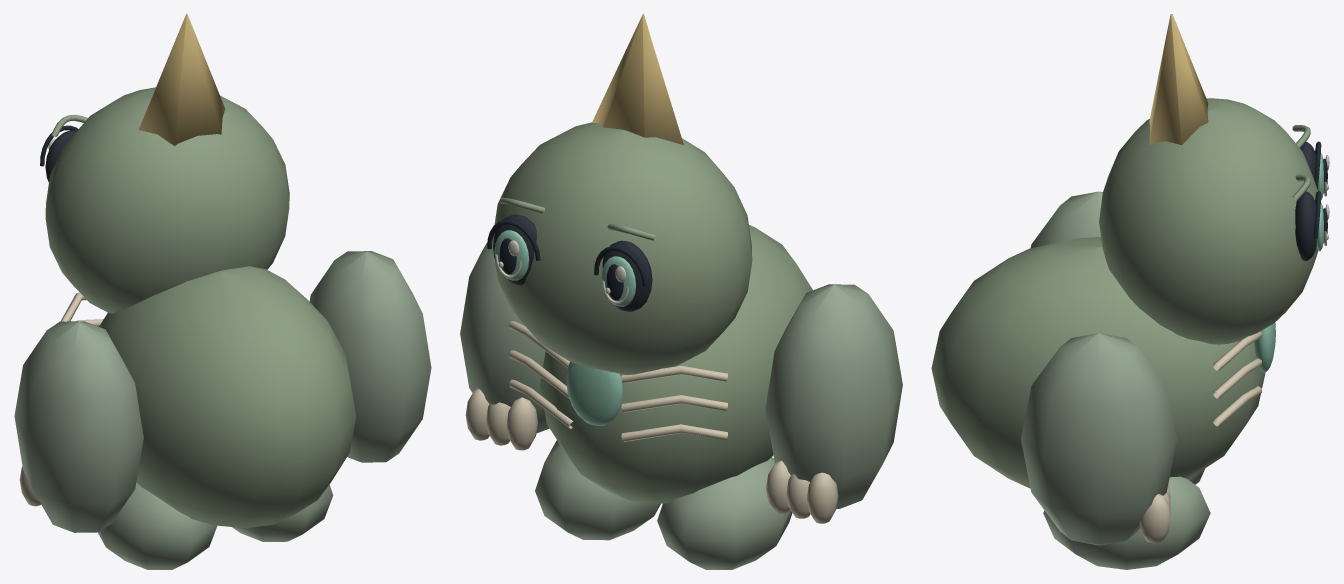
The model's file is pet-golem.glb.
3 renders of one model, left to right at view 1: azimuth 30°, elevation 25°; view 2: azimuth 150°, elevation 25°; view 3: azimuth 270°, elevation 25°, orthographic. The views are drawn at different scales.
Parts seen in each view (by area): view 1: body_Painted pet.001, petHead_Painted pet.001, limbL_Painted pet.001, limbR_Painted pet.001, legLF_Painted pet.001, legRF_Painted pet.001, petEyes_Painted pet.001; view 2: petHead_Painted pet.001, body_Painted pet.001, limbL_Painted pet.001, limbR_Painted pet.001, legLF_Painted pet.001, legRF_Painted pet.001, petEyes_Painted pet.001; view 3: petHead_Painted pet.001, body_Painted pet.001, limbR_Painted pet.001, legRF_Painted pet.001, petEyes_Painted pet.001, limbL_Painted pet.001.
Boxes of the visible parts, <box> form: body_Painted pet.001: <box>60,266,356,527</box>; petHead_Painted pet.001: <box>45,14,289,313</box>; limbL_Painted pet.001: <box>14,321,143,532</box>; limbR_Painted pet.001: <box>309,251,431,462</box>; legLF_Painted pet.001: <box>98,482,217,569</box>; legRF_Painted pet.001: <box>232,485,333,541</box>; petEyes_Painted pet.001: <box>40,125,78,182</box>; petHead_Painted pet.001: <box>493,14,752,374</box>; body_Painted pet.001: <box>508,225,812,503</box>; limbL_Painted pet.001: <box>765,284,902,523</box>; limbR_Painted pet.001: <box>460,238,549,450</box>; legLF_Painted pet.001: <box>657,457,792,569</box>; legRF_Painted pet.001: <box>535,440,660,540</box>; petEyes_Painted pet.001: <box>487,214,652,311</box>; petHead_Painted pet.001: <box>1099,14,1318,344</box>; body_Painted pet.001: <box>931,237,1275,488</box>; limbR_Painted pet.001: <box>1021,333,1176,545</box>; legRF_Painted pet.001: <box>1043,476,1210,569</box>; petEyes_Painted pet.001: <box>1295,141,1329,260</box>; limbL_Painted pet.001: <box>1030,191,1102,248</box>.
Bounding box in the file's own units: 0.82 × 1.03 × 0.7128.
